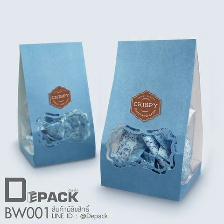snack: (95, 32, 209, 206), (10, 34, 100, 172)
